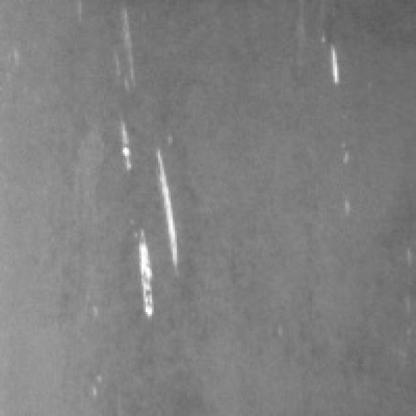scratches: (123, 119, 187, 316), (320, 29, 352, 87)
